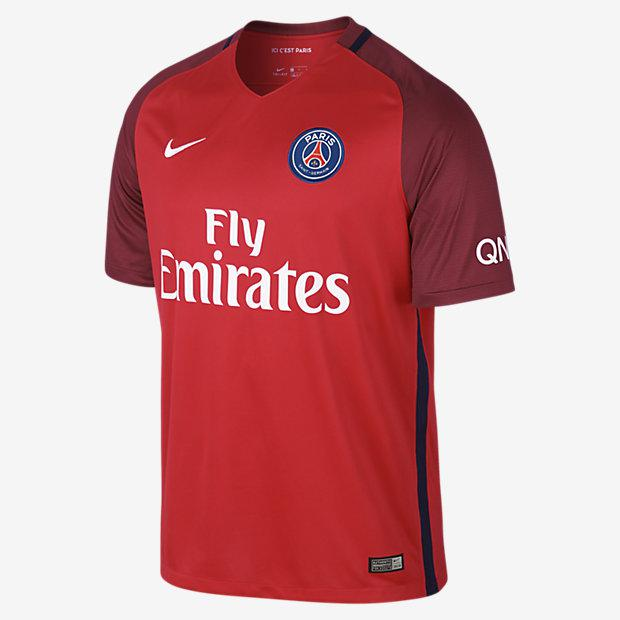teeshirt: (71, 11, 585, 608)
